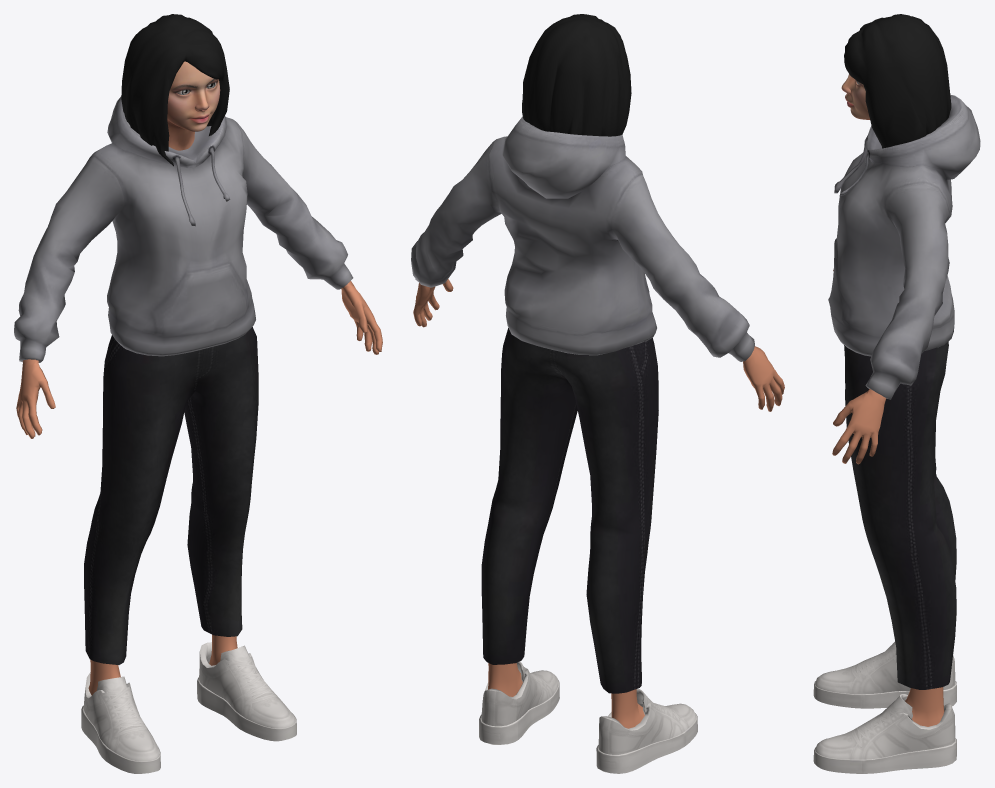
The model's file is Project Name.obj.
3 renders of one model, left to right at view 1: azimuth 30°, elevation 25°; view 2: azimuth 150°, elevation 25°; view 3: azimuth 270°, elevation 25°, orthographic.
Parts seen in each view (by area): view 1: 007_Wolf3D_Outfit_Top, 005_Wolf3D_Outfit_Bottom, 006_Wolf3D_Outfit_Footwear, 008_Wolf3D_Hair, 004_Wolf3D_Body, 002_Wolf3D_Head; view 2: 007_Wolf3D_Outfit_Top, 005_Wolf3D_Outfit_Bottom, 008_Wolf3D_Hair, 006_Wolf3D_Outfit_Footwear, 004_Wolf3D_Body; view 3: 007_Wolf3D_Outfit_Top, 005_Wolf3D_Outfit_Bottom, 006_Wolf3D_Outfit_Footwear, 008_Wolf3D_Hair, 004_Wolf3D_Body, 002_Wolf3D_Head.
Boxes of the visible parts, bbox=[...] form: 007_Wolf3D_Outfit_Top: bbox=[14, 96, 353, 362]; 005_Wolf3D_Outfit_Bottom: bbox=[84, 327, 258, 664]; 006_Wolf3D_Outfit_Footwear: bbox=[81, 642, 296, 773]; 008_Wolf3D_Hair: bbox=[121, 14, 229, 166]; 004_Wolf3D_Body: bbox=[16, 281, 382, 695]; 002_Wolf3D_Head: bbox=[167, 61, 220, 150]; 007_Wolf3D_Outfit_Top: bbox=[411, 116, 754, 361]; 005_Wolf3D_Outfit_Bottom: bbox=[481, 328, 658, 693]; 008_Wolf3D_Hair: bbox=[522, 14, 631, 136]; 006_Wolf3D_Outfit_Footwear: bbox=[479, 661, 697, 773]; 004_Wolf3D_Body: bbox=[413, 279, 784, 728]; 007_Wolf3D_Outfit_Top: bbox=[828, 94, 980, 399]; 005_Wolf3D_Outfit_Bottom: bbox=[844, 341, 956, 689]; 006_Wolf3D_Outfit_Footwear: bbox=[813, 641, 956, 773]; 008_Wolf3D_Hair: bbox=[844, 14, 951, 148]; 004_Wolf3D_Body: bbox=[832, 270, 944, 726]; 002_Wolf3D_Head: bbox=[841, 74, 869, 119].
Size of the model in its own units: 928 by 1768 by 376.
Materials: 8 (8 with a texture image).
